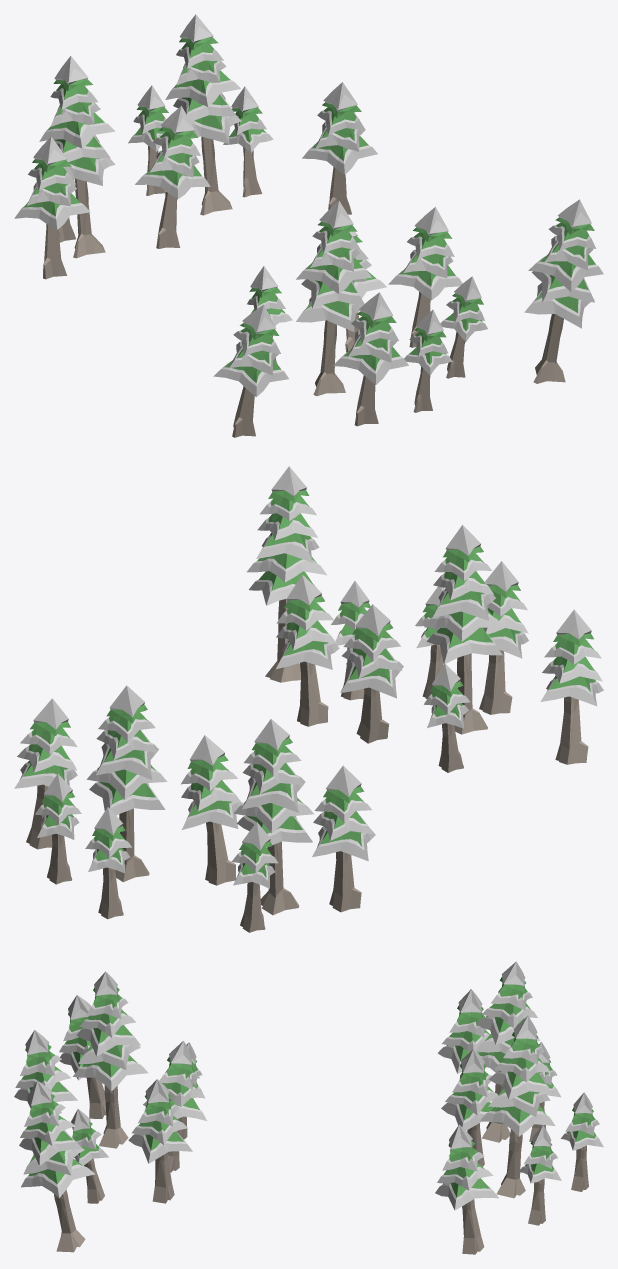
Rendered from Start.glb.
3 views of the same model, one above another, from view 1: azimuth 30°, elevation 25°; view 2: azimuth 150°, elevation 25°; view 3: azimuth 270°, elevation 25° (orthographic). The views are drawn at different scales.
Parts seen in each view (by area): view 1: pine_tall_snowy_01.003, pine_tall_snowy_01.001, pine_tall_snowy_01, pine_tall_snowy_01.002, pine_medium_snowy_01.004, pine_medium_snowy_01.001, pine_medium_snowy_01.003, pine_medium_snowy_01.007, pine_medium_snowy_01.005, pine_medium_snowy_01, pine_small_snowy_01.006, pine_small_snowy_01.002 (+4 smaller); view 2: pine_tall_snowy_01.003, pine_tall_snowy_01, pine_tall_snowy_01.002, pine_tall_snowy_01.001, pine_medium_snowy_01, pine_medium_snowy_01.003, pine_medium_snowy_01.001, pine_medium_snowy_01.004, pine_medium_snowy_01.008, pine_medium_snowy_01.005, pine_medium_snowy_01.007, pine_small_snowy_01.003 (+5 smaller); view 3: pine_tall_snowy_01, pine_tall_snowy_01.003, pine_tall_snowy_01.001, pine_tall_snowy_01.002, pine_medium_snowy_01.005, pine_medium_snowy_01, pine_medium_snowy_01.004, pine_medium_snowy_01.008, pine_medium_snowy_01.007, pine_medium_snowy_01.003, pine_medium_snowy_01.001, pine_small_snowy_01.004 (+3 smaller).
Boxes of the visible parts, x1,y1,x2,y2 form: pine_tall_snowy_01.003: (296,201,371,396); pine_tall_snowy_01.001: (524,199,603,383); pine_tall_snowy_01: (165,14,241,215); pine_tall_snowy_01.002: (39,56,115,258); pine_medium_snowy_01.004: (135,106,210,248); pine_medium_snowy_01.001: (14,136,90,279); pine_medium_snowy_01.003: (213,304,288,437); pine_medium_snowy_01.007: (333,292,408,426); pine_medium_snowy_01.005: (302,82,377,214); pine_medium_snowy_01: (388,207,462,347); pine_small_snowy_01.006: (440,276,487,378); pine_small_snowy_01.002: (404,309,452,412); pine_tall_snowy_01.003: (424,525,504,734); pine_tall_snowy_01: (86,685,167,882); pine_tall_snowy_01.002: (234,719,314,915); pine_tall_snowy_01.001: (247,466,326,682); pine_medium_snowy_01: (276,575,339,726); pine_medium_snowy_01.003: (540,609,603,764); pine_medium_snowy_01.001: (312,765,375,912); pine_medium_snowy_01.004: (181,735,242,885); pine_medium_snowy_01.008: (340,604,403,743); pine_medium_snowy_01.005: (14,698,77,849); pine_medium_snowy_01.007: (479,561,528,714); pine_small_snowy_01.003: (85,807,131,919); pine_tall_snowy_01: (480,1016,555,1198); pine_tall_snowy_01.003: (73,971,148,1148); pine_tall_snowy_01.001: (19,1080,95,1252); pine_tall_snowy_01.002: (475,961,539,1142); pine_medium_snowy_01.005: (435,1125,498,1254); pine_medium_snowy_01: (128,1079,192,1203); pine_medium_snowy_01.004: (441,1049,497,1166); pine_medium_snowy_01.008: (143,1041,206,1172); pine_medium_snowy_01.007: (14,1030,77,1107); pine_medium_snowy_01.003: (59,995,106,1118); pine_medium_snowy_01.001: (437,989,489,1073); pine_small_snowy_01.004: (519,1125,561,1225).
Size of the model in its own units: 28.07 by 15.78 by 43.99.
